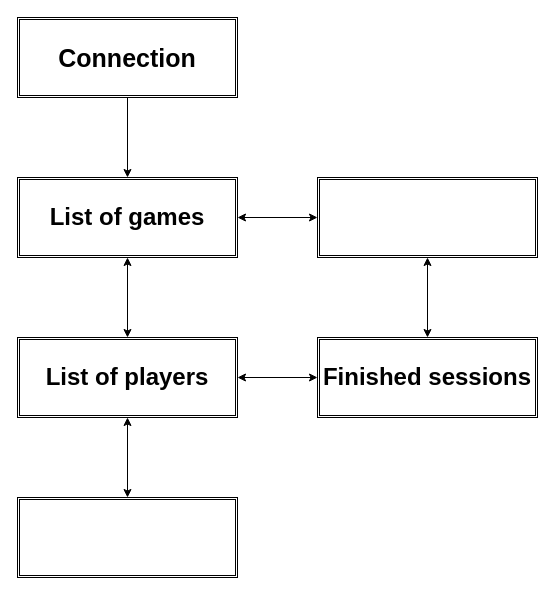
The diagram is 555 pixels wide and 595 high, and some of its shapes have lost their labels. The box of each missing label's shape, as (x1, y1, x2, y2) in pixels:
Active sessions: (316, 176, 538, 258)
Player's details: (16, 496, 238, 578)
